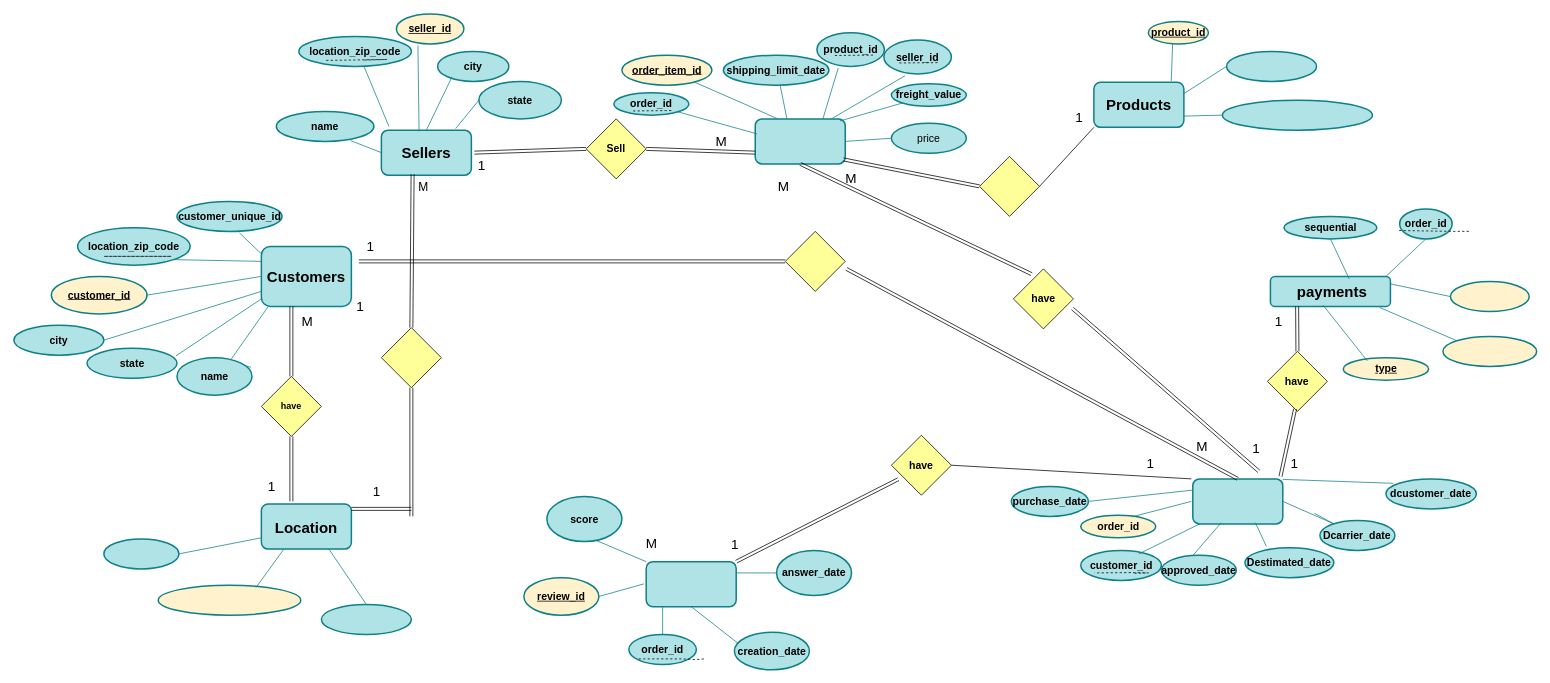
Some shapes in this 1550 by 683 pixel diagram are drawn without their labels. The shapes that lost their labels are listed below. From the top down, each one's box as (x1, y1, x2, y2) in pixels, then its label:
(1225, 50, 1317, 82): photos_qty
(1221, 99, 1373, 130): category_name
(754, 118, 846, 164): order items
(979, 156, 1040, 216): Are
(784, 231, 845, 291): Order
(1449, 280, 1530, 312): value
(381, 327, 441, 388): Exist in
(1442, 335, 1537, 367): amounts
(1192, 478, 1283, 524): Orders
(103, 538, 179, 569): longitude
(157, 584, 301, 616): zip_code
(645, 561, 737, 607): Reviews
(320, 603, 412, 635): latitude
